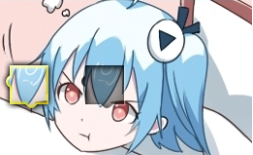gap: (82, 65, 124, 108)
